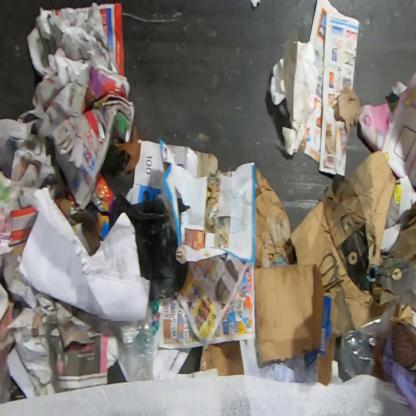cardboard: (289, 148, 401, 339), (254, 263, 339, 387), (124, 138, 220, 247), (254, 168, 297, 268), (198, 340, 244, 377)
soft_plastic: (338, 303, 397, 379), (116, 305, 155, 382), (91, 172, 117, 215)
